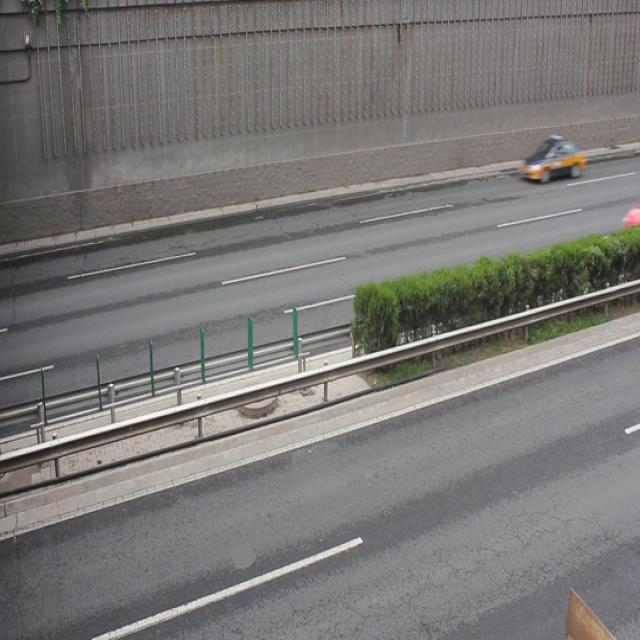car: (520, 134, 584, 180)
